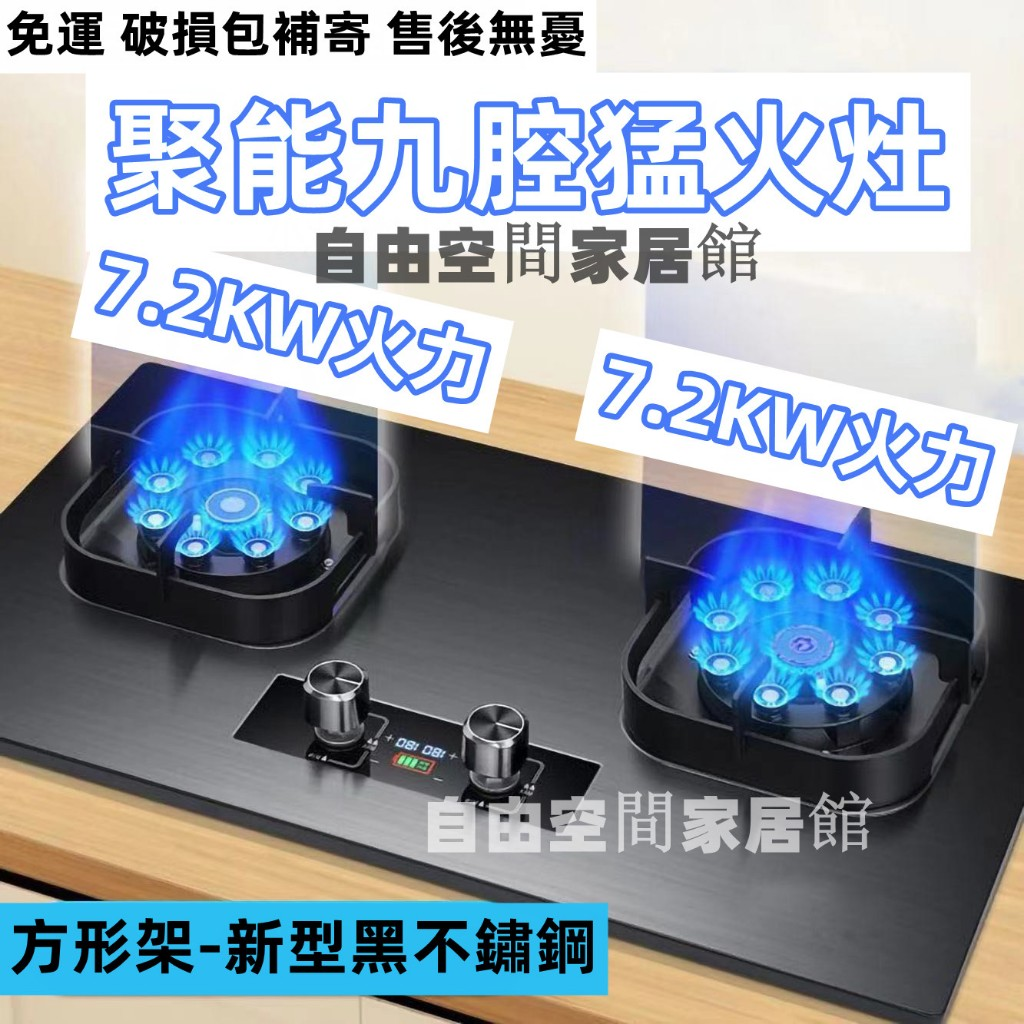gasoven: (6, 346, 1022, 1024)
